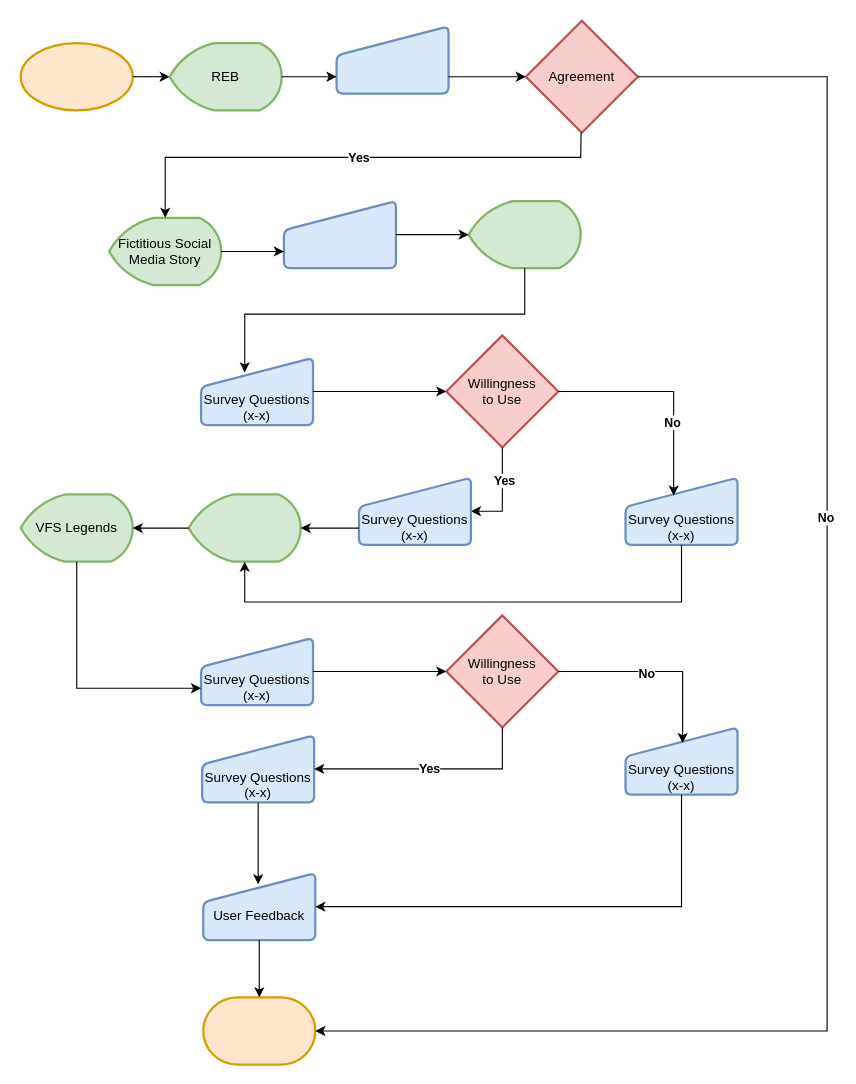
Some shapes in this 856 by 1084 pixel diagram are drawn without their labels. The centre of each missing label's shape, as x and y in pixels:
Demograpic Questions (1-8): (339,234)
END: (259,1030)
Fictitious Social Media VFS: (244,527)
START: (76,76)
Text Only ToC: (524,234)
User Consent: (392,59)
